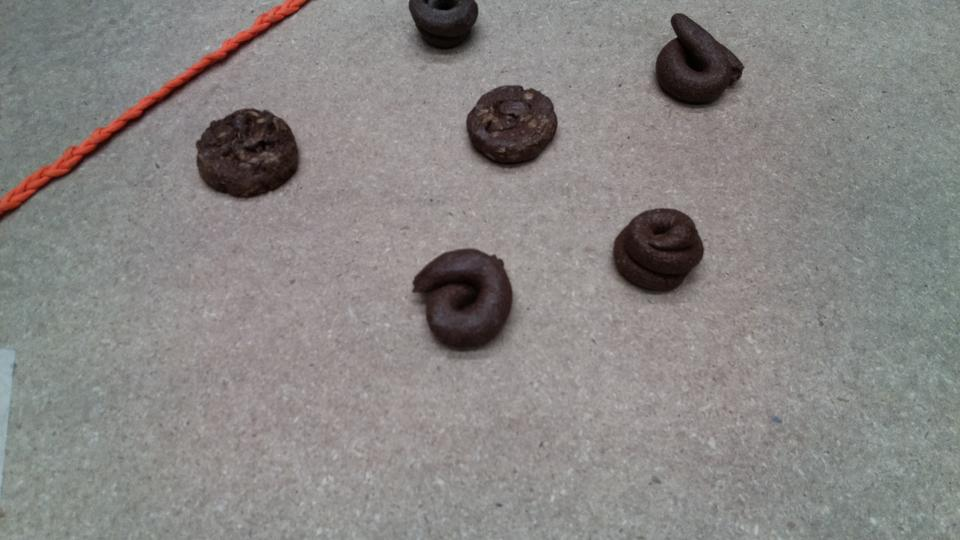poop: (410, 241, 517, 355), (638, 12, 756, 109), (196, 103, 306, 199), (609, 205, 712, 299), (463, 77, 563, 170), (406, 1, 496, 59)
rope: (2, 134, 89, 228), (76, 91, 171, 160), (200, 1, 304, 58), (136, 44, 236, 103)
